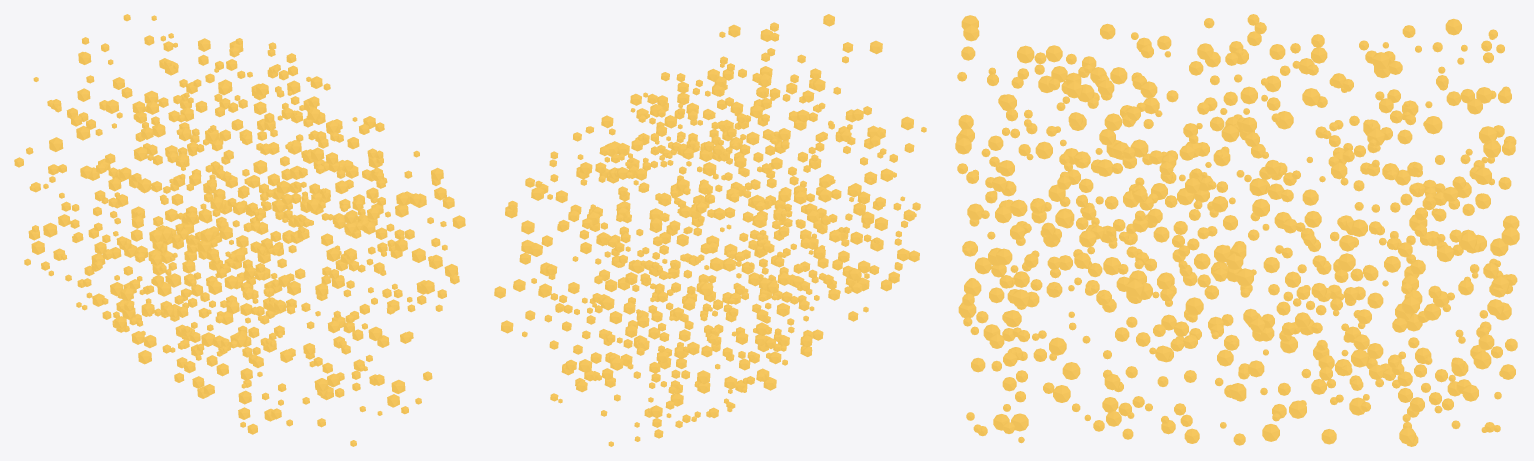
File: particles.glb
The picture shows the model from 3 angles, left to right: view 1: azimuth 30°, elevation 25°; view 2: azimuth 150°, elevation 25°; view 3: azimuth 270°, elevation 25°; orthographic projection. The views are drawn at different scales.
Visible parts, largest first — view 1: ParticleCloud; view 2: ParticleCloud; view 3: ParticleCloud.
Boxes of the visible parts, bbox=[...] form: ParticleCloud: bbox=[14, 14, 465, 446]; ParticleCloud: bbox=[494, 14, 926, 446]; ParticleCloud: bbox=[955, 14, 1519, 446].
Bounding box in the file's own units: 2.15 × 2.2 × 2.85.
